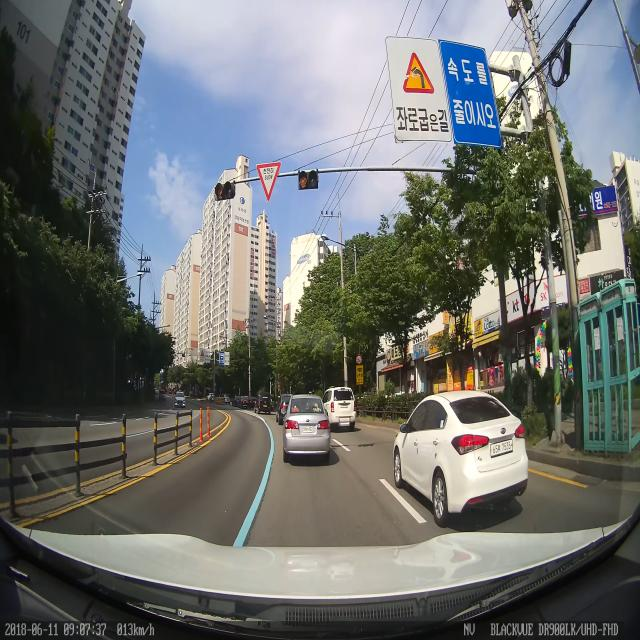Yellow Light: (298, 172, 308, 190), (214, 182, 224, 200)
